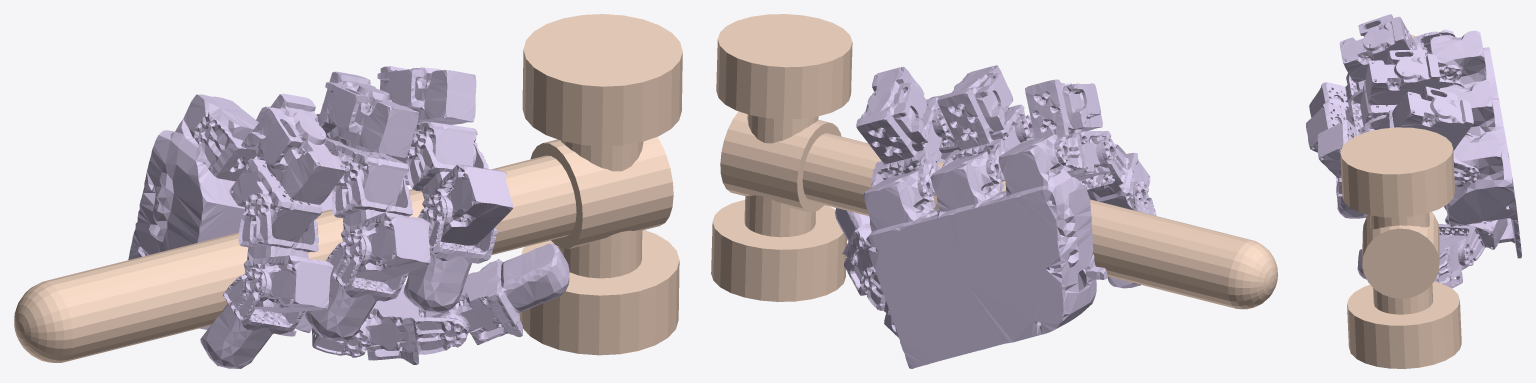
Rendered from 3091bb5792d7c0-closed.glb.
The picture shows the model from 3 angles, left to right: view 1: azimuth 30°, elevation 25°; view 2: azimuth 150°, elevation 25°; view 3: azimuth 270°, elevation 25°; orthographic projection. The views are drawn at different scales.
Parts seen in each view (by area): view 1: LEAP_hand, world; view 2: LEAP_hand, world; view 3: LEAP_hand, world.
Boxes of the visible parts, x1,y1,x2,y2 form: LEAP_hand: [128, 66, 569, 368]; world: [14, 14, 682, 362]; LEAP_hand: [835, 65, 1156, 368]; world: [711, 14, 1277, 309]; LEAP_hand: [1306, 14, 1521, 288]; world: [1340, 35, 1461, 368].
Bounding box in the file's own units: 0.3585 × 0.1662 × 0.1452.
